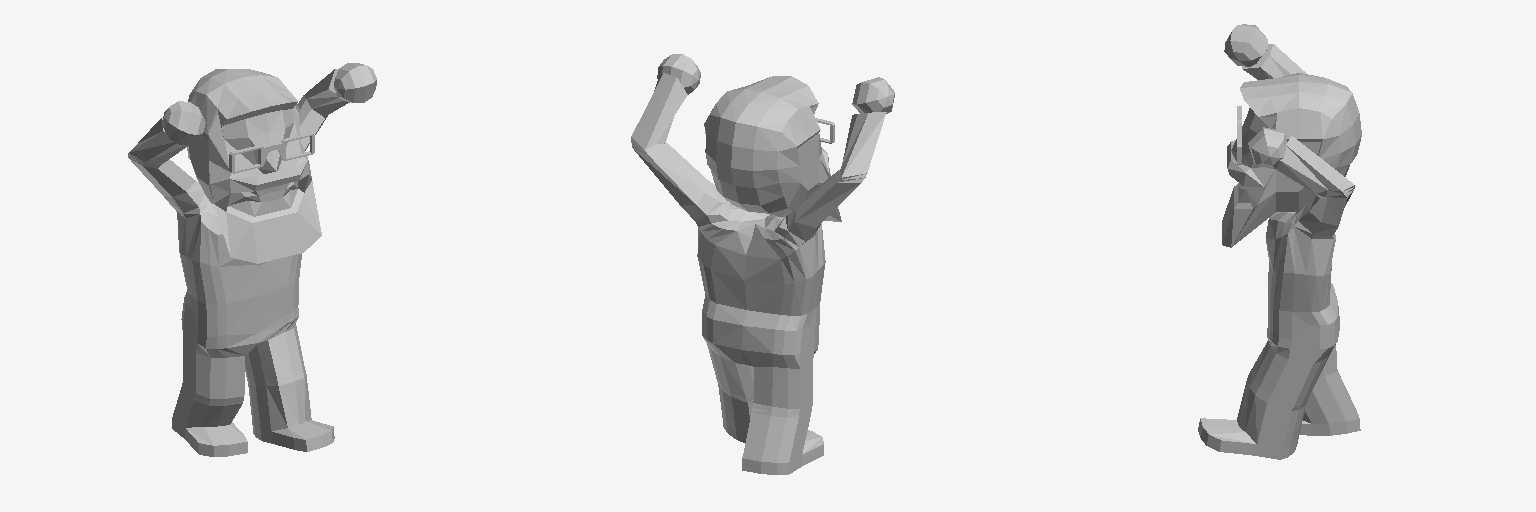
File: brendo3.obj
3 renders of one model, left to right at view 1: azimuth 30°, elevation 25°; view 2: azimuth 150°, elevation 25°; view 3: azimuth 270°, elevation 25°, orthographic.
Parts seen in each view (by area): view 1: Dude_Cube; view 2: Dude_Cube; view 3: Dude_Cube.
Boxes of the visible parts, <box> form: Dude_Cube: <box>128,63,376,456</box>; Dude_Cube: <box>631,54,894,474</box>; Dude_Cube: <box>1198,24,1361,459</box>.
Bounding box in the file's own units: 0.2726 × 0.4257 × 0.1708.